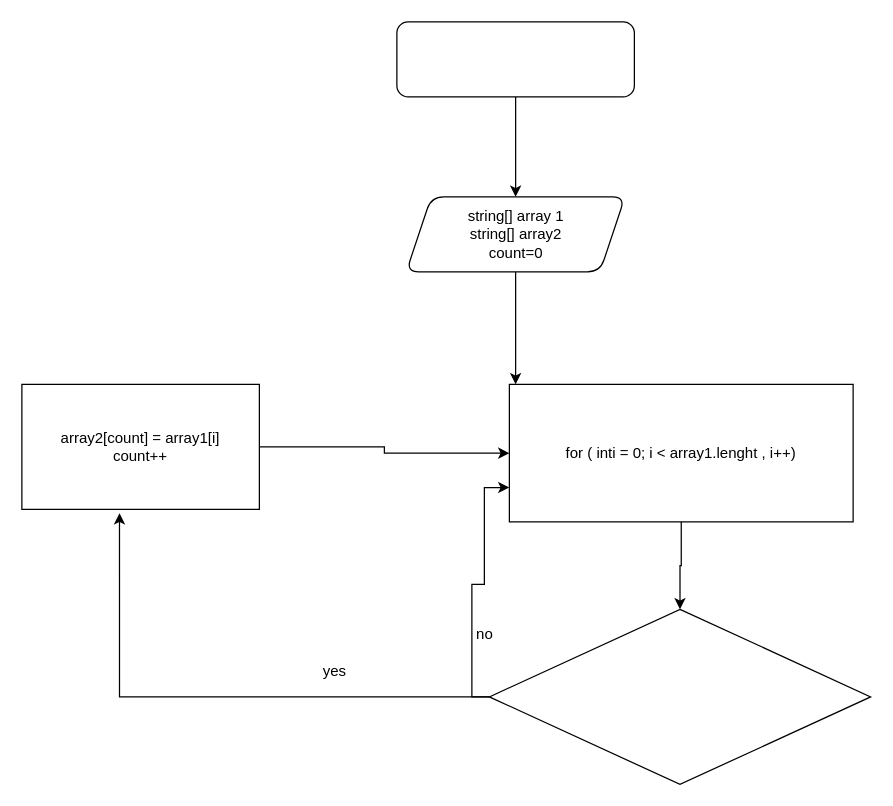
This 893x806 diagram has some shape labels left out. Each missing label, with the centre of its shape:
if( array1[i].lenght <=3): (x=679, y=696)
SecondArrayWithlf: (x=515, y=59)
